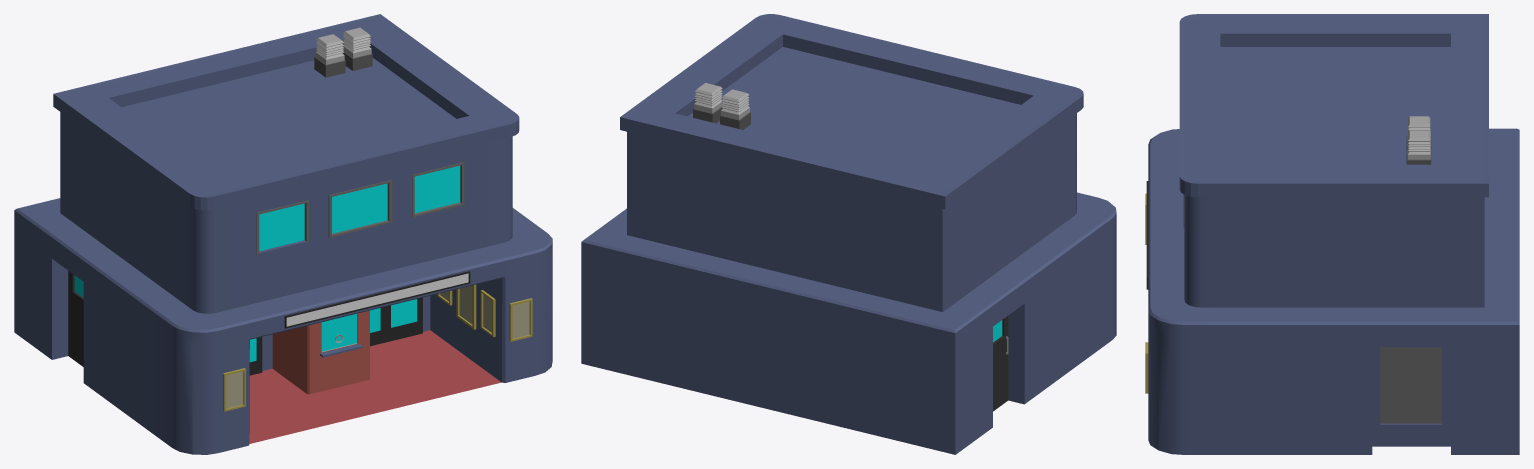
Rendered from Cine.fbx.
The picture shows the model from 3 angles, left to right: view 1: azimuth 30°, elevation 25°; view 2: azimuth 150°, elevation 25°; view 3: azimuth 270°, elevation 25°; orthographic projection. The views are drawn at different scales.
Visible parts, largest first — view 1: polySurface139; view 2: polySurface139; view 3: polySurface139.
Boxes of the visible parts, x1,y1,x2,y2 form: polySurface139: (14, 14, 552, 454); polySurface139: (581, 14, 1116, 454); polySurface139: (1145, 14, 1519, 454).
Size of the model in its own units: 2038 by 1358 by 1652.
